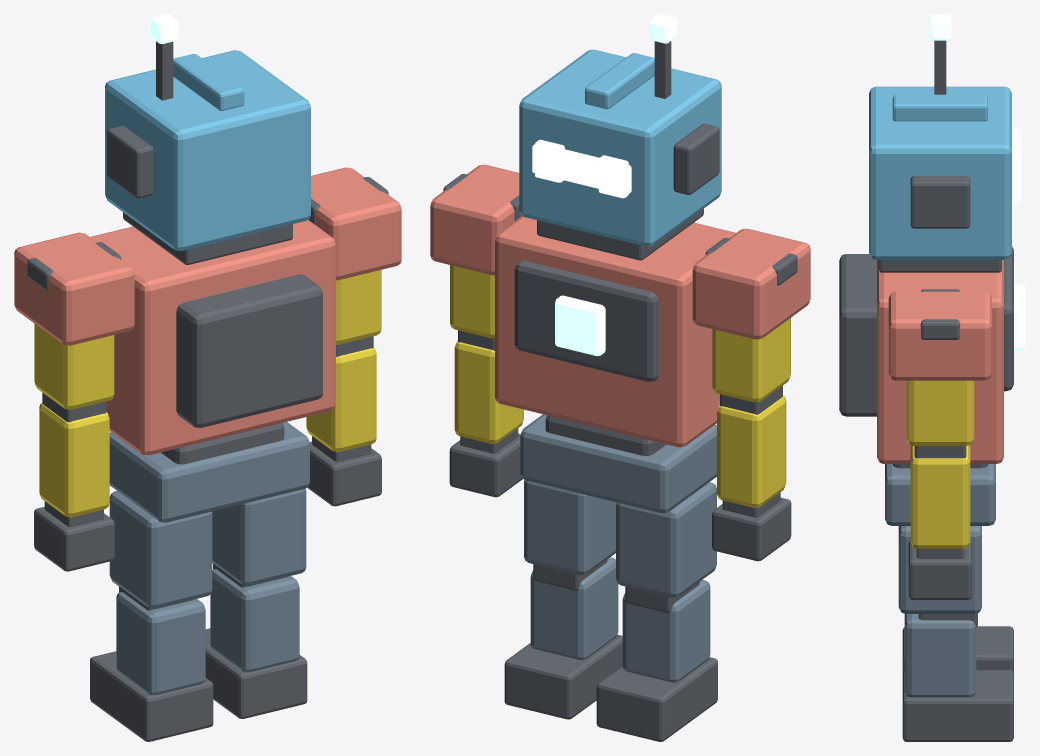
Rendered from mech.glb.
3 views of the same model, side by side, from view 1: azimuth 30°, elevation 25°; view 2: azimuth 150°, elevation 25°; view 3: azimuth 270°, elevation 25° (orthographic). The views are drawn at different scales.
Parts seen in each view (by area): view 1: Torso, Head, LegL, LegR, ArmL, ArmR, Antenna; view 2: Torso, Head, LegL, LegR, ArmL, ArmR, EyesVisor, EyesRound, Antenna; view 3: Torso, Head, LegR, ArmR, LegL, Antenna, EyesVisor.
Boxes of the visible parts, x1,y1,x2,y2 form: Torso: [14, 167, 401, 522]; Head: [105, 50, 310, 264]; LegL: [90, 491, 213, 741]; LegR: [205, 488, 307, 718]; ArmL: [34, 323, 114, 571]; ArmR: [306, 270, 381, 506]; Antenna: [150, 14, 178, 100]; Torso: [430, 164, 810, 513]; Head: [519, 49, 721, 260]; LegL: [596, 482, 717, 741]; LegR: [504, 480, 622, 719]; ArmL: [712, 318, 791, 561]; ArmR: [449, 265, 523, 497]; EyesVisor: [532, 144, 631, 195]; EyesRound: [535, 139, 628, 198]; Antenna: [649, 14, 676, 98]; Torso: [839, 246, 1025, 525]; Head: [869, 86, 1011, 272]; LegR: [898, 526, 1013, 741]; ArmR: [906, 380, 974, 599]; LegL: [902, 626, 1013, 673]; Antenna: [929, 14, 951, 94]; EyesVisor: [1012, 143, 1020, 201].
Bounding box in the file's own units: 0.95 × 1.86 × 0.47.
